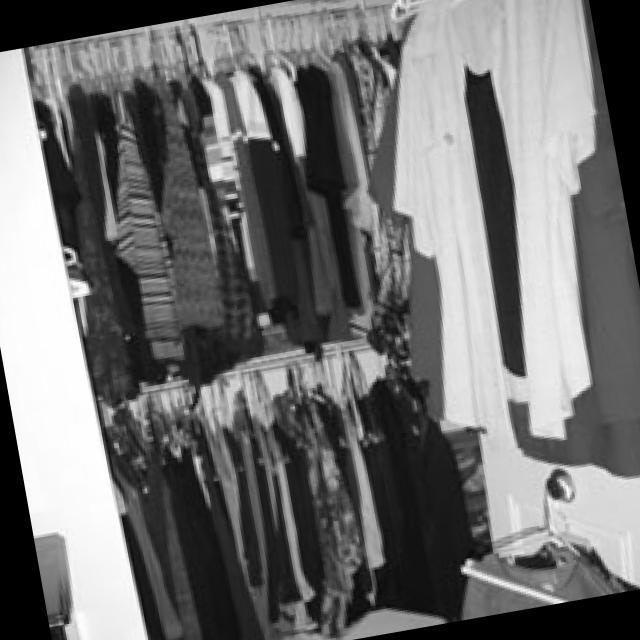basket crop: (130, 557, 290, 640)
boot: (83, 241, 124, 353), (108, 237, 148, 349), (136, 235, 175, 347), (163, 230, 201, 342)
box contants: (255, 23, 341, 79)
clothes hamper: (0, 288, 128, 640), (434, 63, 509, 106)
purse occluded: (334, 0, 429, 62)
shirts: (472, 257, 640, 593), (350, 351, 543, 617)
shoes occluded: (189, 171, 226, 211), (260, 303, 302, 335), (309, 297, 352, 328), (66, 198, 104, 230), (7, 140, 47, 170), (195, 253, 238, 280), (95, 113, 133, 143), (55, 124, 91, 155), (176, 105, 215, 132), (150, 187, 184, 217), (108, 196, 143, 225), (196, 226, 231, 253), (205, 281, 242, 305), (137, 112, 168, 138), (143, 151, 178, 173), (102, 162, 138, 180), (189, 143, 218, 165)
skirts: (309, 93, 448, 298)
sweaters: (445, 106, 531, 175), (526, 96, 609, 160), (452, 176, 542, 225), (538, 157, 620, 209)
trousers occluded: (271, 370, 384, 635), (233, 132, 326, 300)
